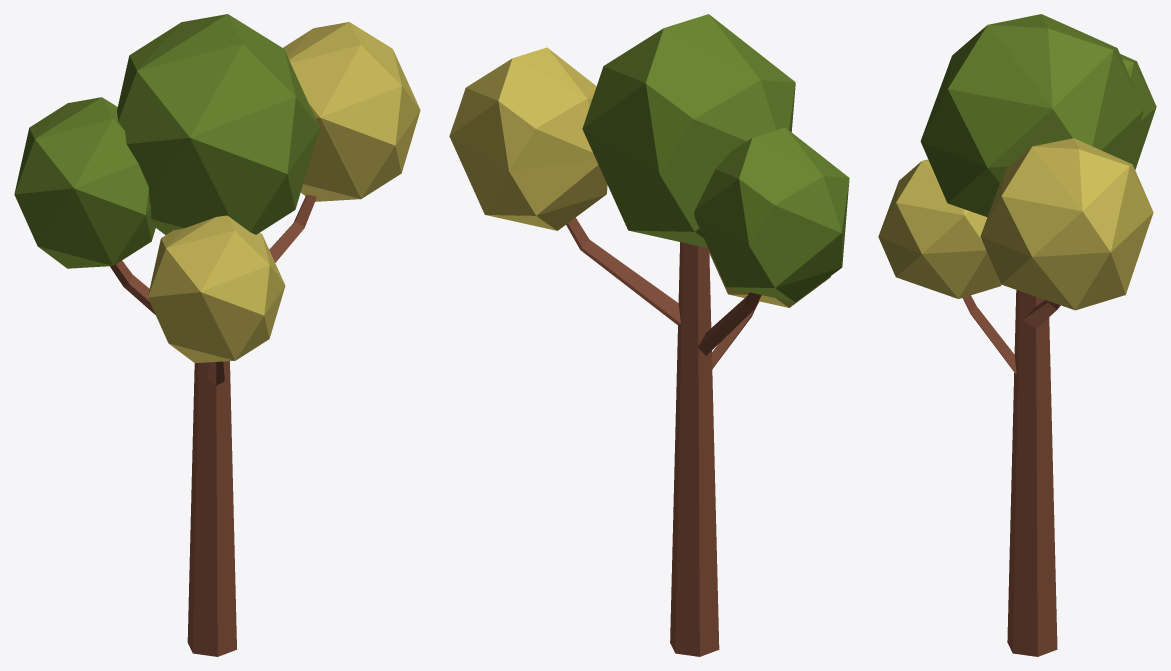
The model's file is Tree_35_autumn_vc.fbx.
3 renders of one model, left to right at view 1: azimuth 30°, elevation 25°; view 2: azimuth 150°, elevation 25°; view 3: azimuth 270°, elevation 25°, orthographic.
Visible parts, largest first — view 1: Tree_35_autumn_vc; view 2: Tree_35_autumn_vc; view 3: Tree_35_autumn_vc.
Part boxes in pixels (bbox=[...]): Tree_35_autumn_vc: bbox=[14, 14, 420, 656]; Tree_35_autumn_vc: bbox=[449, 14, 849, 656]; Tree_35_autumn_vc: bbox=[878, 14, 1156, 656].
Bounding box in the file's own units: 10.99 × 17.12 × 6.87.
